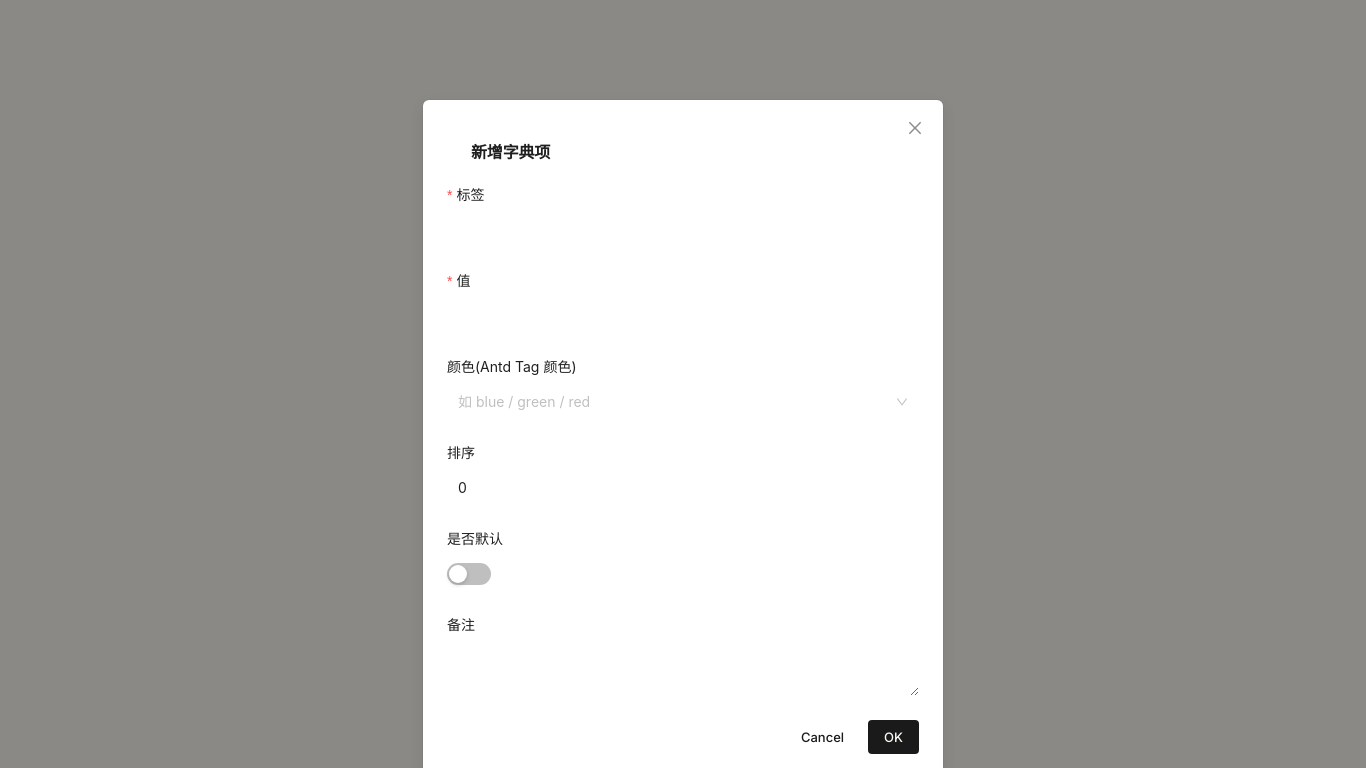
Test: <DictItemFormModal /> › 颜色 Select 列出 CSS_CLASS_OPTIONS 全部选项
Click the dropdown labelled "颜色(Antd Tag 颜色)".
click(519, 367)  # box [447,356,590,378]
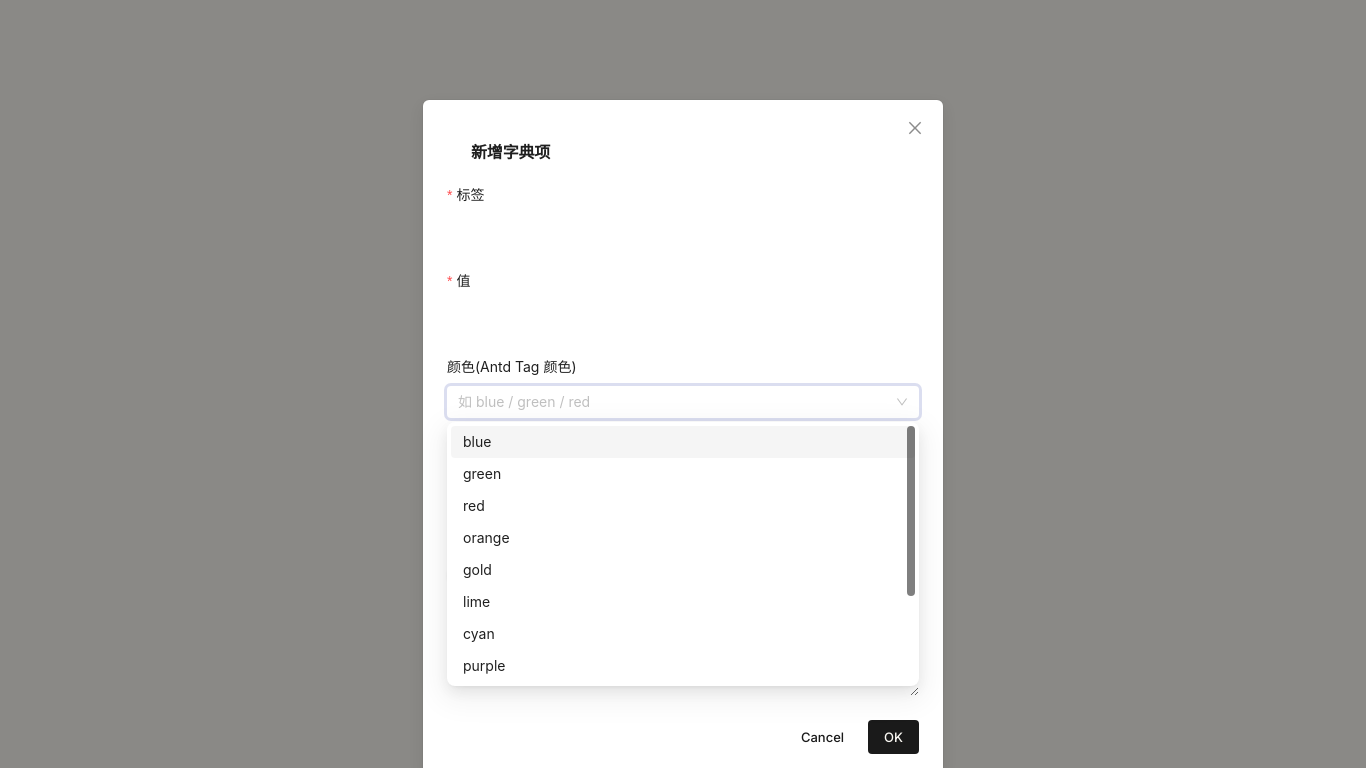
Result: the element showing "blue green red orange gold lime cyan purple magenta volcano" is shown at [447,422,919,686]
